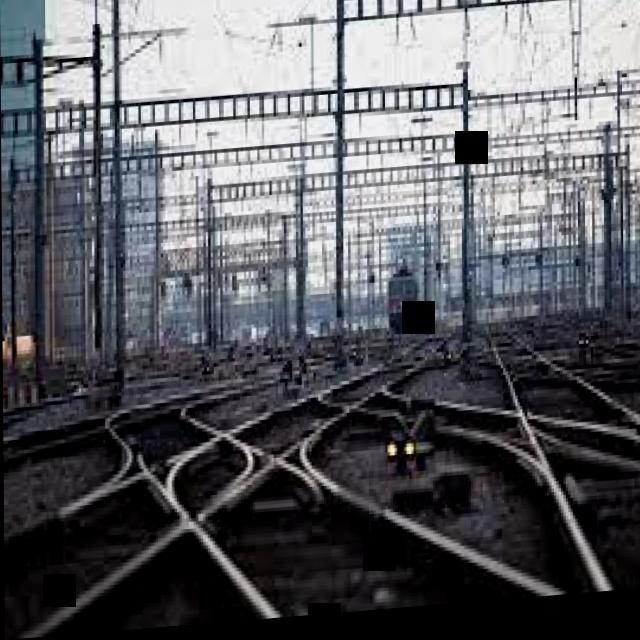locomotive: (380, 263, 425, 353)
